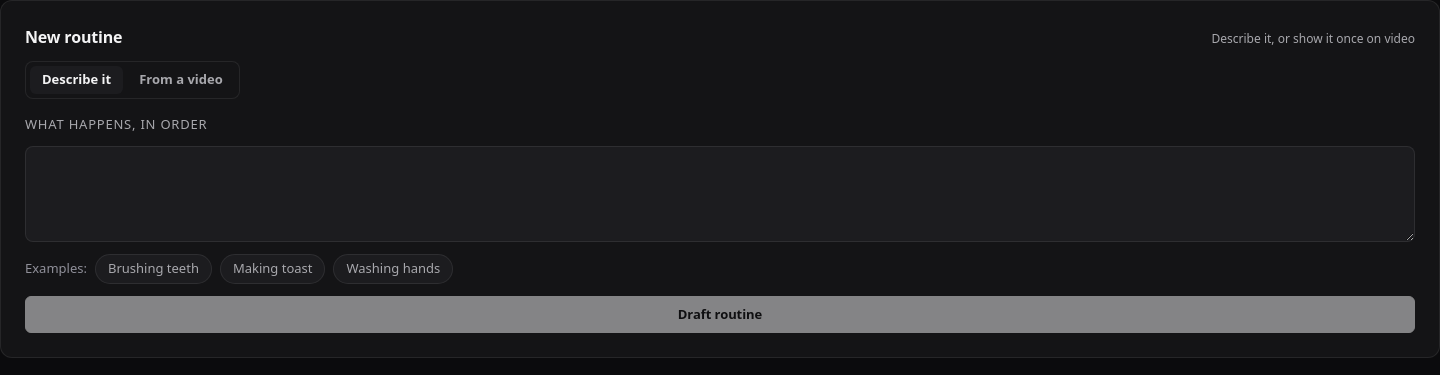
Test case: Describe it › fills the textarea from an example
The image size is (1440, 375).
Step 1. Click the button "Brushing teeth" → x=154, y=269, box [95,254,212,284]
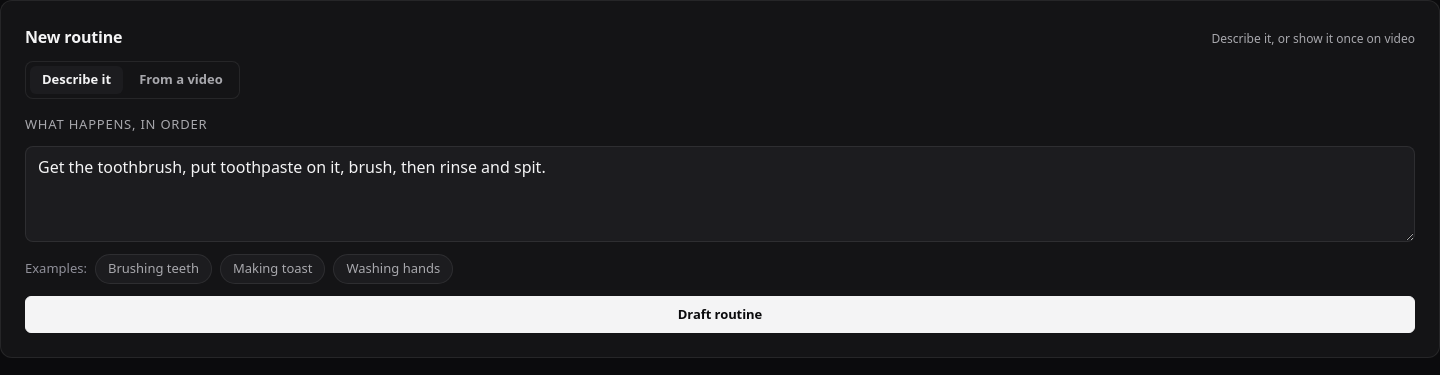
Check: the text box labelled "What happens, in order" holds "Get the toothbrush, put toothpaste on it, brush, then rinse and spit.", box [25,146,1415,242]
